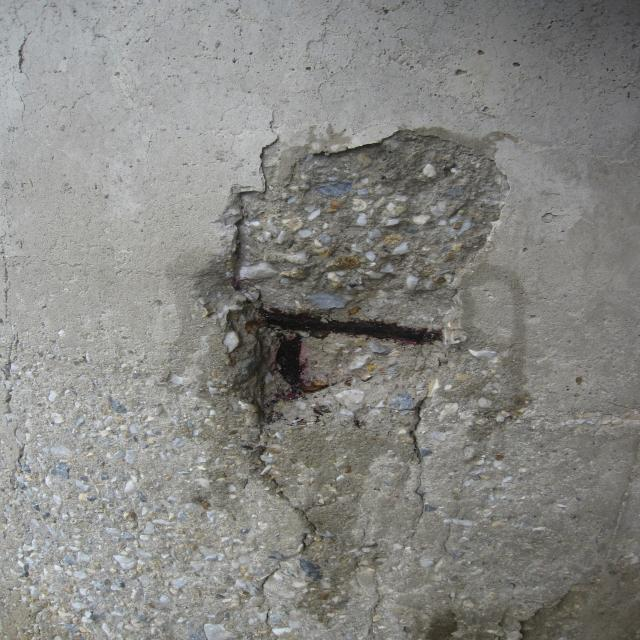corrosion: (208, 192, 456, 430)
